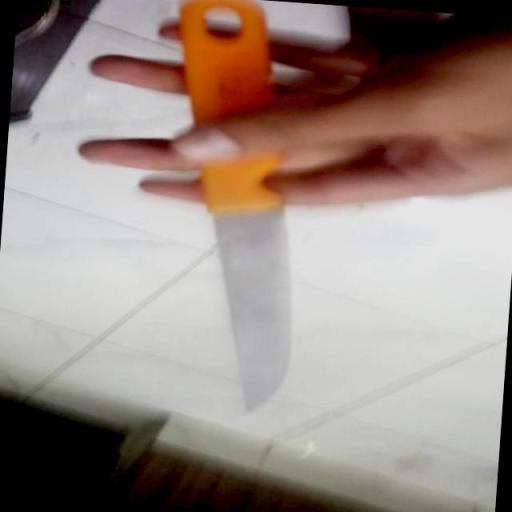knife: (150, 0, 319, 415)
